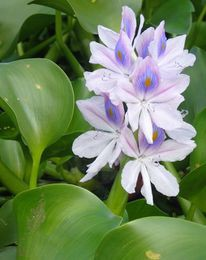water_hyacinth: (1, 0, 206, 259)
